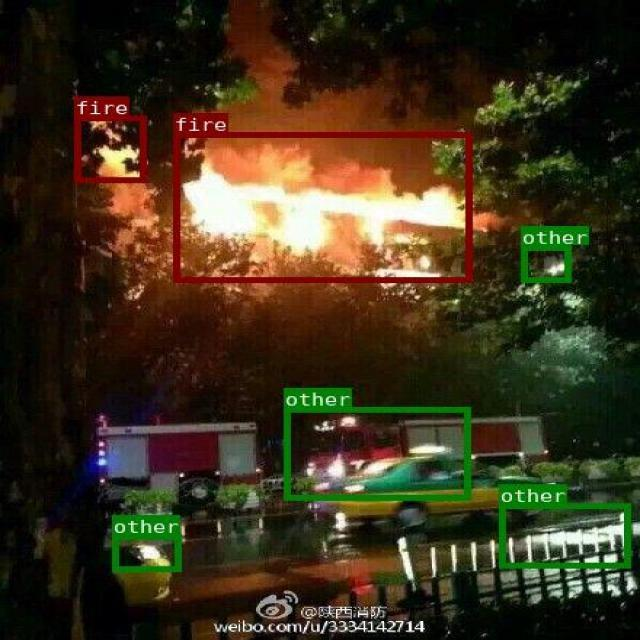fire: (172, 131, 471, 282), (74, 115, 145, 181)
